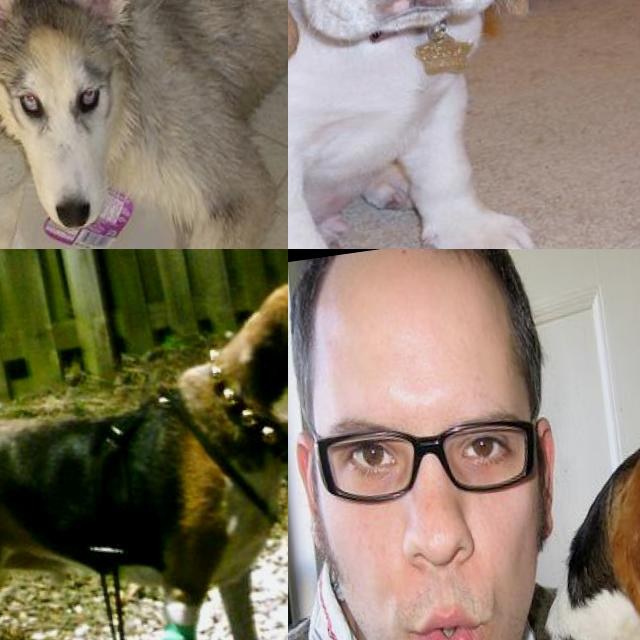eyes: (288, 0, 506, 49), (0, 61, 135, 136)
nose: (41, 168, 126, 243), (355, 0, 461, 42)
tail: (0, 430, 73, 590)
